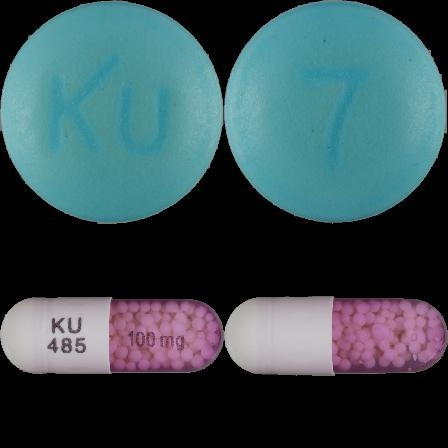62175-302: (0, 0, 224, 224)
